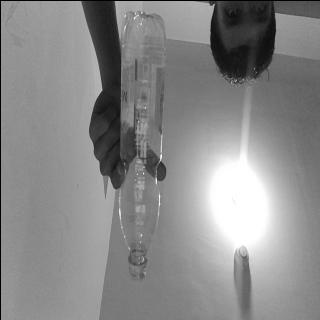plastic_bottles: (118, 12, 166, 280)
